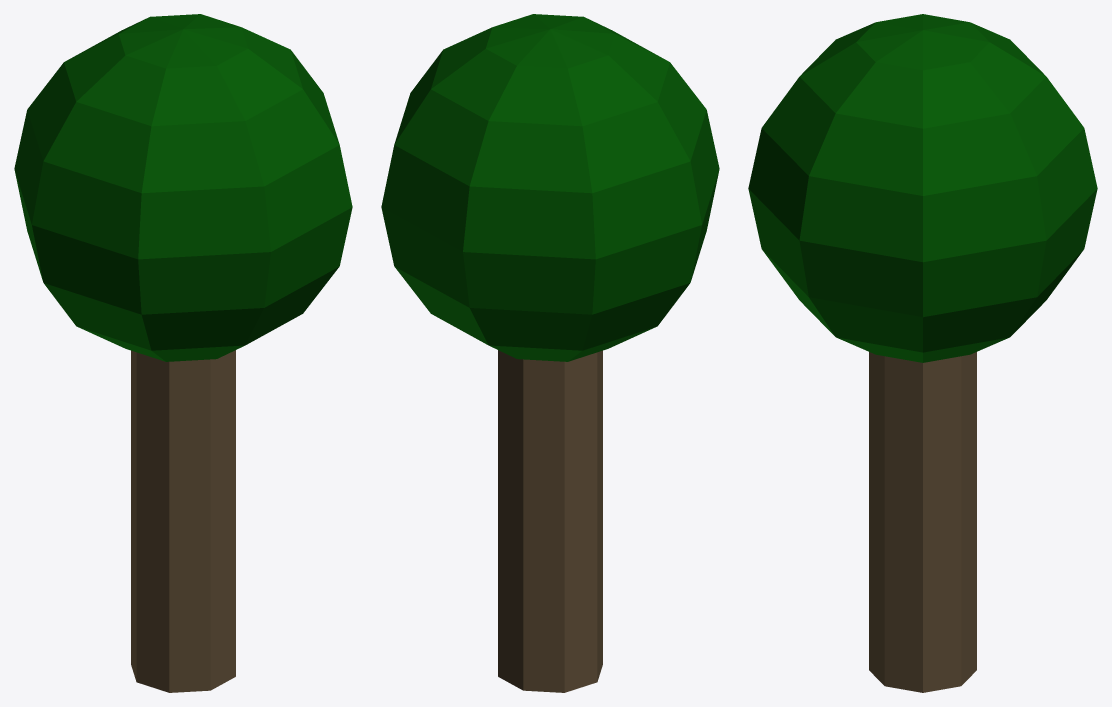
The model's file is Tree 2.fbx.
3 views of the same model, side by side, from view 1: azimuth 30°, elevation 25°; view 2: azimuth 150°, elevation 25°; view 3: azimuth 270°, elevation 25° (orthographic).
Visible parts, largest first — view 1: Tree_2; view 2: Tree_2; view 3: Tree_2.
Boxes of the visible parts, left/top/right/bottom form: Tree_2: left=14, top=14, right=352, bottom=692; Tree_2: left=381, top=14, right=719, bottom=692; Tree_2: left=748, top=14, right=1097, bottom=692.
Bounding box in the file's own units: 6.46 × 13.05 × 6.46.
